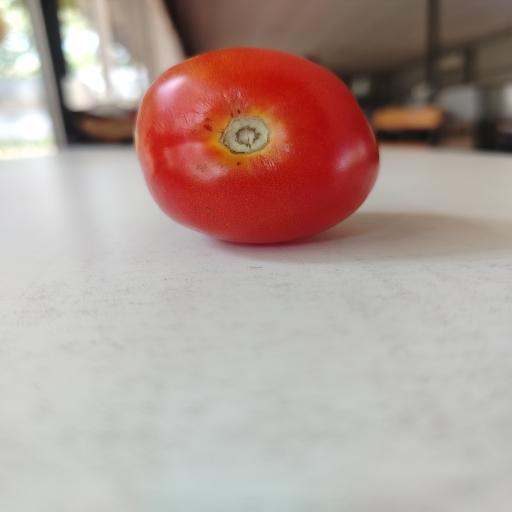ripe: (135, 48, 379, 243)
